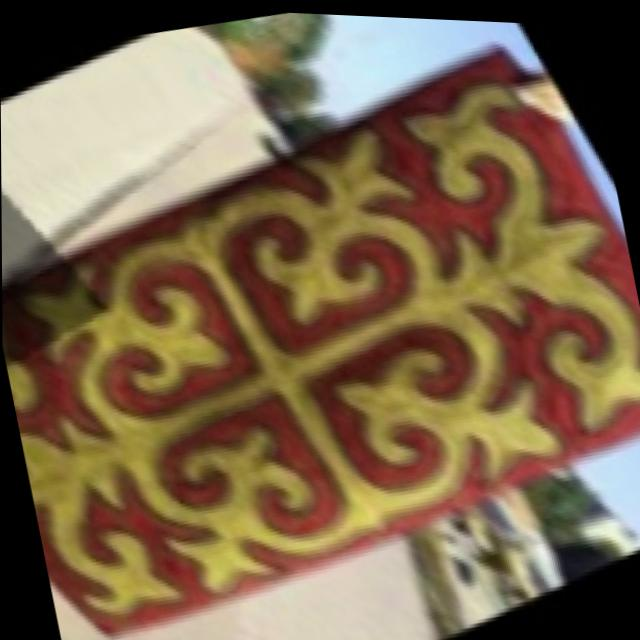Unity: (2, 105, 579, 619)
